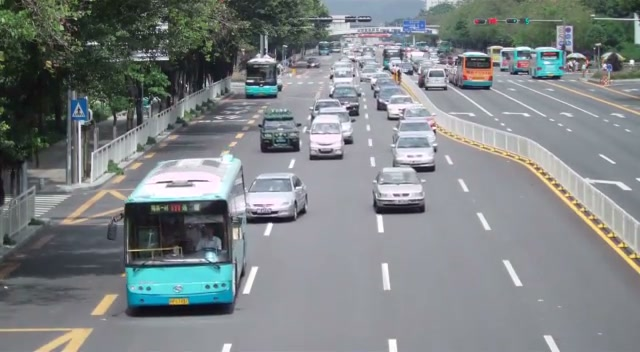bus: (106, 155, 248, 314), (452, 50, 494, 89), (244, 57, 280, 98), (529, 47, 565, 80), (504, 47, 535, 74)
car: (246, 172, 309, 221), (371, 165, 426, 213), (258, 106, 301, 152), (390, 131, 436, 172), (308, 117, 344, 160), (331, 86, 361, 117), (376, 85, 407, 111), (386, 95, 415, 120)
pedestrian: (195, 224, 223, 252)
